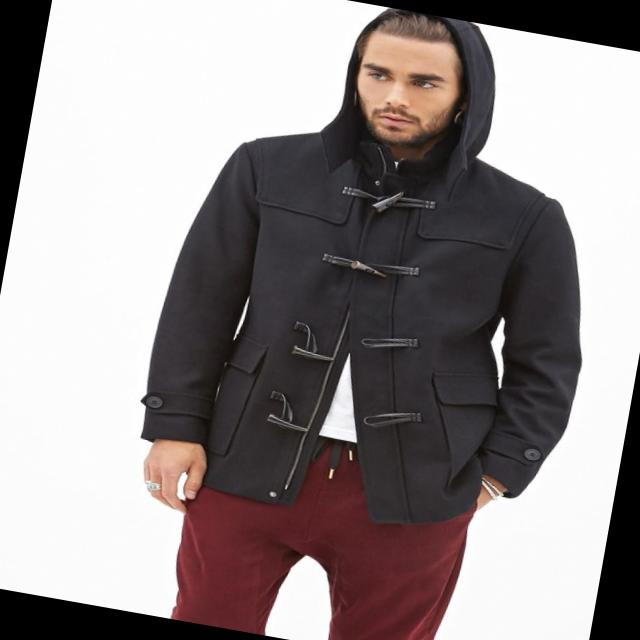Jacket: (120, 103, 616, 530)
